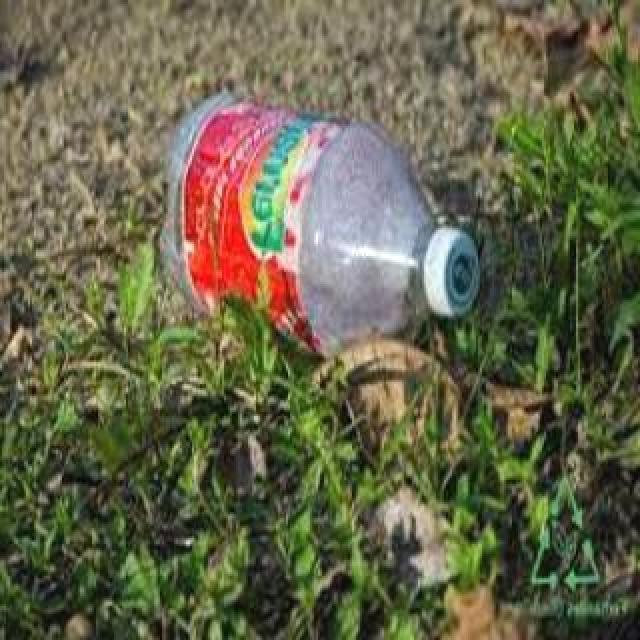Pet_Bottle: (169, 79, 477, 347)
